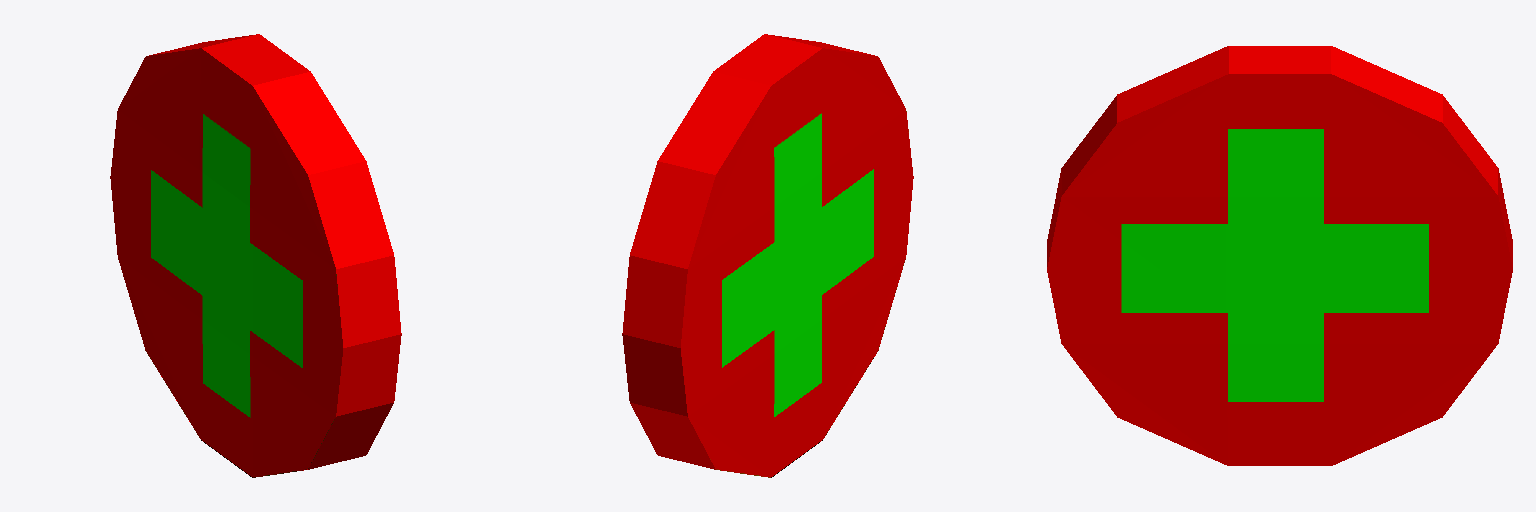
The picture shows the model from 3 angles: view 1: azimuth 30°, elevation 25°; view 2: azimuth 150°, elevation 25°; view 3: azimuth 270°, elevation 25°; orthographic projection.
Parts seen in each view (by area): view 1: pCube1; view 2: pCube1; view 3: pCube1.
Boxes of the visible parts, box(x1,y1,x2,y2) form: pCube1: box(110, 34, 401, 477); pCube1: box(622, 34, 913, 477); pCube1: box(1047, 46, 1512, 465).
Size of the model in its own units: 0.2135 by 1.33 by 1.43.
Materials: 1 (1 with a texture image).